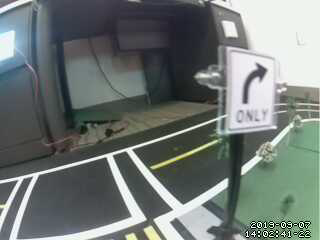Right_only_sign: (212, 44, 285, 134)
